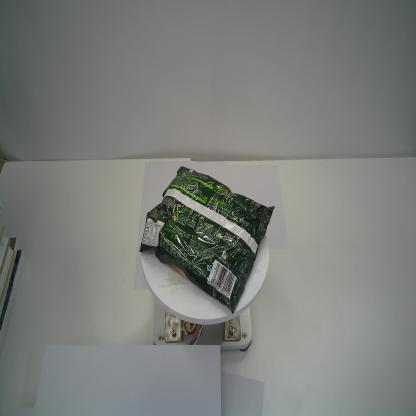Instant Noodles: (136, 164, 276, 315)
